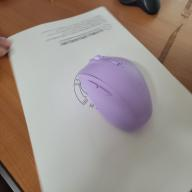mouse: (76, 53, 154, 131)
